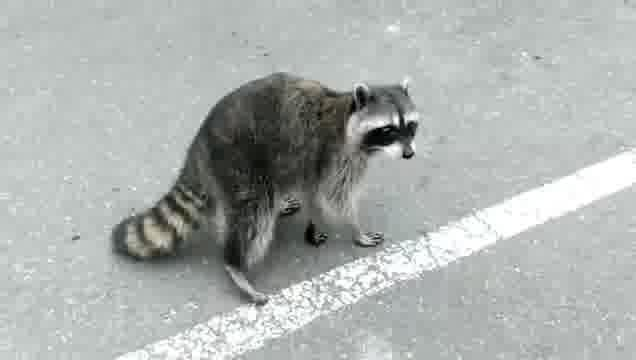raccoon: (110, 67, 421, 307)
